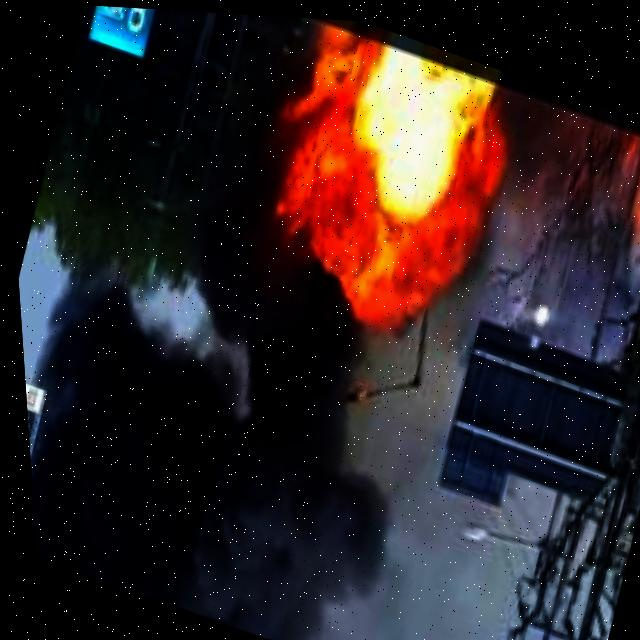Fire: (238, 11, 523, 299)
Smoke: (12, 232, 439, 640)
